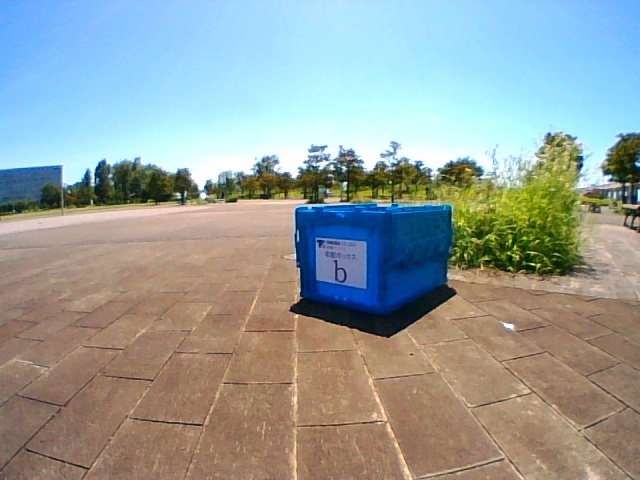blue_box: (296, 207, 447, 287)
tag_b: (319, 242, 363, 283)
